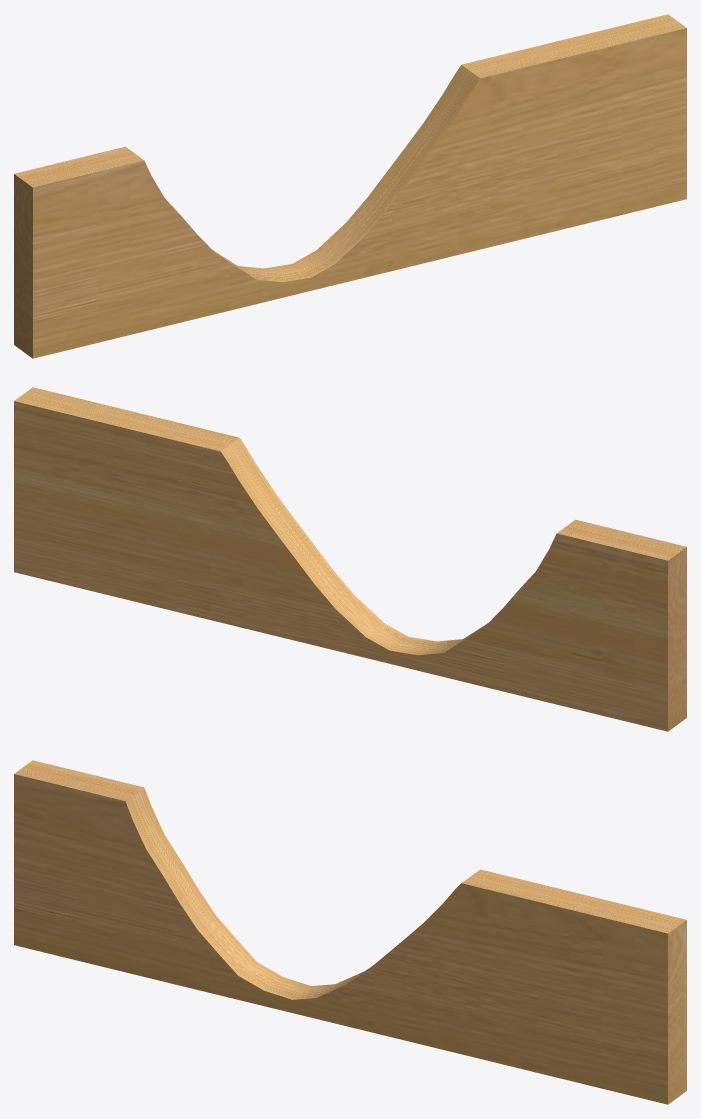
The picture shows the model from 3 angles, top to bottom: view 1: azimuth 30°, elevation 25°; view 2: azimuth 150°, elevation 25°; view 3: azimuth 330°, elevation 25°; orthographic projection.
Visible parts, largest first — view 1: pCube8; view 2: pCube8; view 3: pCube8.
Part boxes in pixels (x1,y1,x2,y2): pCube8: (14, 14, 686, 358); pCube8: (14, 387, 686, 731); pCube8: (14, 760, 686, 1104).
Size of the model in its own units: 20 by 5 by 1.
Materials: 1 (1 with a texture image).
